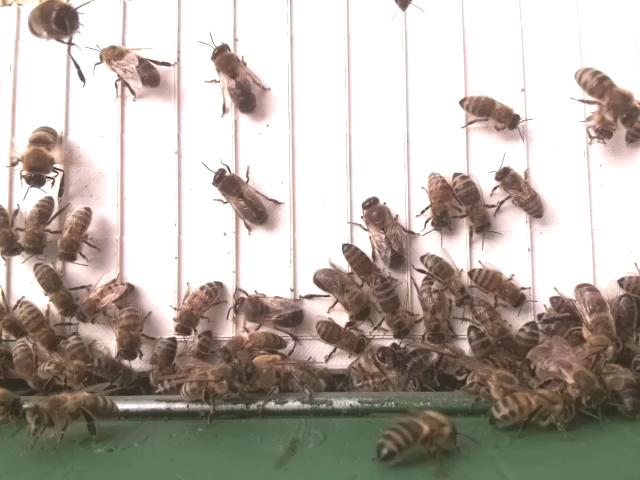Drone: (206, 39, 261, 118), (209, 166, 272, 228), (311, 263, 372, 327), (360, 192, 408, 272), (91, 43, 165, 94), (228, 291, 307, 331), (20, 123, 65, 191)
Worker: (171, 279, 229, 339), (492, 165, 549, 221), (466, 261, 530, 310), (450, 167, 494, 238), (572, 65, 630, 118), (418, 251, 468, 307), (416, 276, 454, 348), (74, 278, 139, 320), (457, 93, 523, 133), (32, 259, 74, 317), (376, 279, 414, 343), (57, 202, 95, 264), (312, 317, 368, 359), (22, 193, 59, 256), (423, 168, 454, 234), (339, 241, 383, 287), (115, 300, 145, 363)
